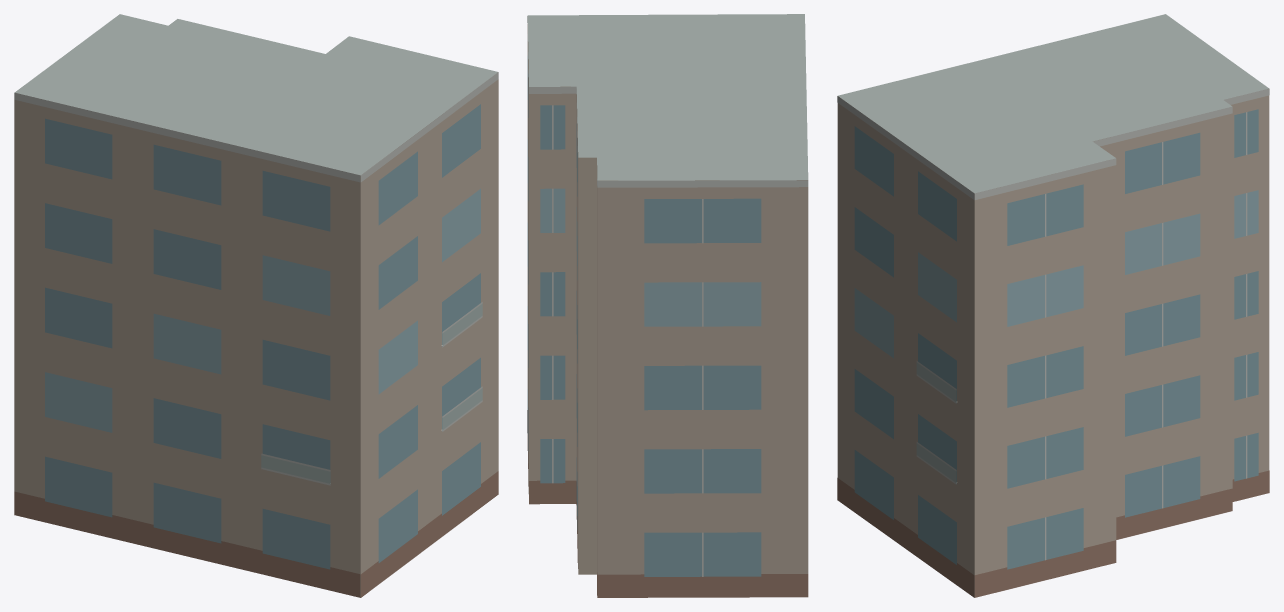
File: survey-upis-32988692.glb
3 renders of one model, left to right at view 1: azimuth 30°, elevation 25°; view 2: azimuth 150°, elevation 25°; view 3: azimuth 270°, elevation 25°, orthographic. The views are drawn at different scales.
Parts seen in each view (by area): view 1: survey-upis-32988692.tmp; view 2: survey-upis-32988692.tmp; view 3: survey-upis-32988692.tmp.
Boxes of the visible parts, <box> form: survey-upis-32988692.tmp: <box>14,14,498,597</box>; survey-upis-32988692.tmp: <box>527,14,808,597</box>; survey-upis-32988692.tmp: <box>837,14,1269,597</box>.
Bounding box in the file's own units: 13.76 × 14.45 × 14.
